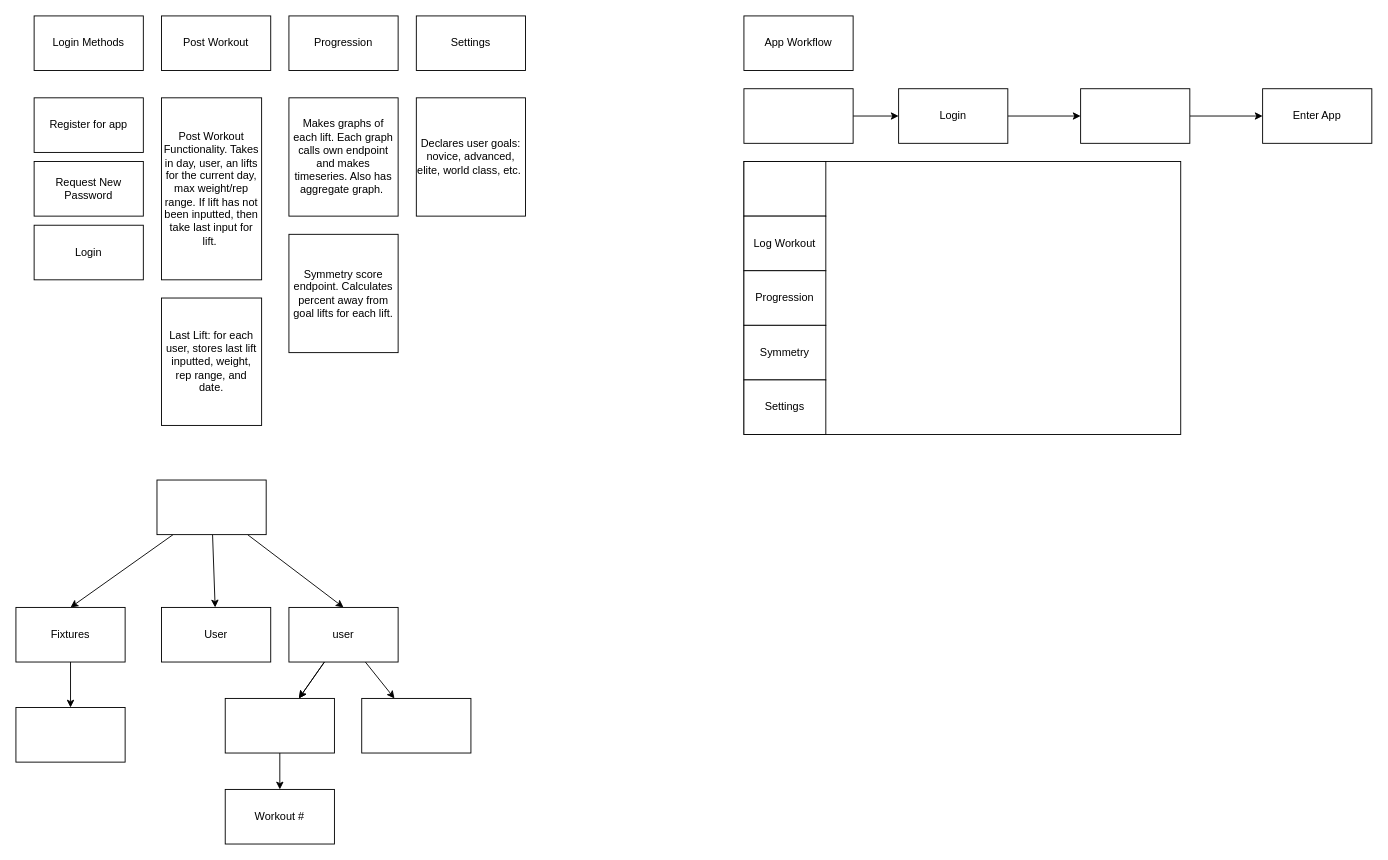
This 1388x860 diagram has some shape labels left out. The shapes that lost their labels are listed below. From the top down, each one's centre as x and y in pixels, then its label:
At point (798, 115): "Register".
At point (1135, 115): "If first time, pop up settings and goals. Must save these goals".
At point (211, 507): "Database".
At point (70, 734): "Lift proportions".
At point (279, 725): "Workouts".
At point (416, 725): "Setting".
